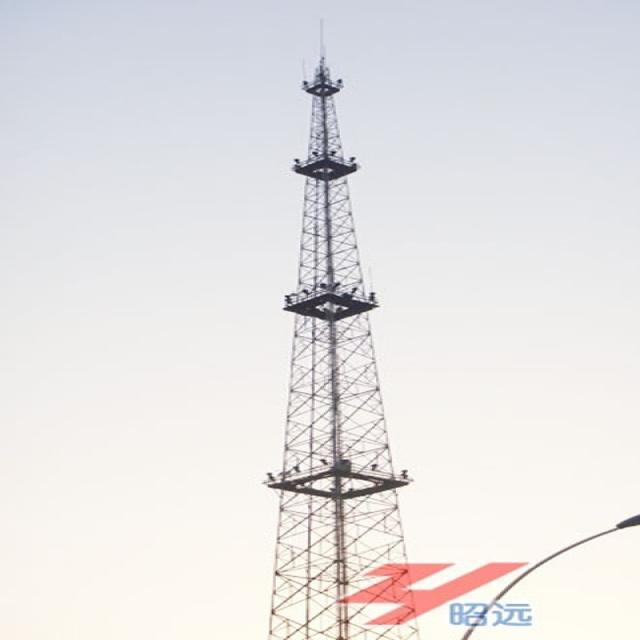non-critical vegetation: (231, 49, 473, 588)
